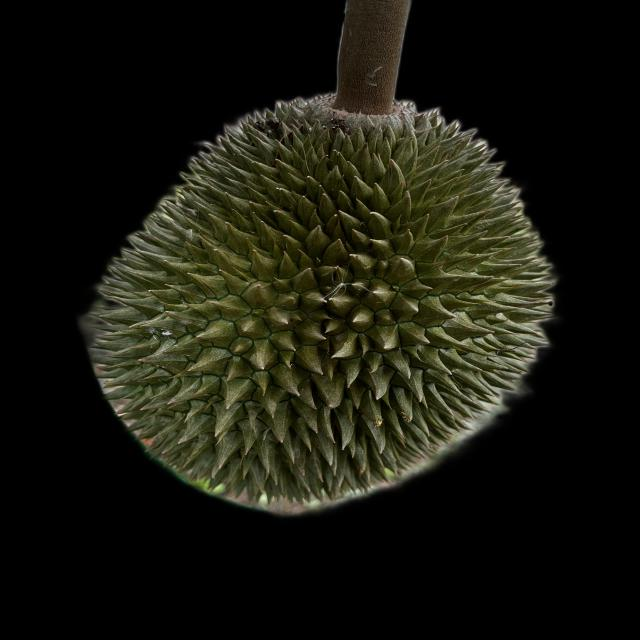immature: (84, 94, 559, 518)
